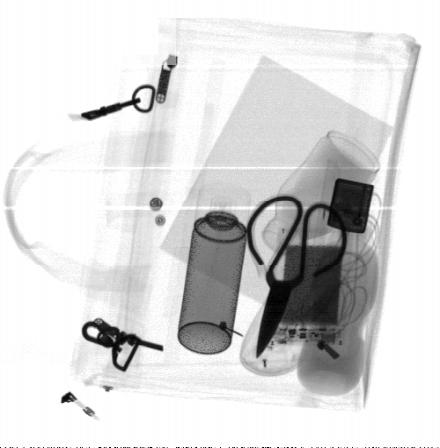Lighter: (326, 178, 374, 233)
Powerbank: (263, 225, 349, 350)
Scissors: (243, 194, 349, 360)
Sprayer: (177, 181, 251, 356)
